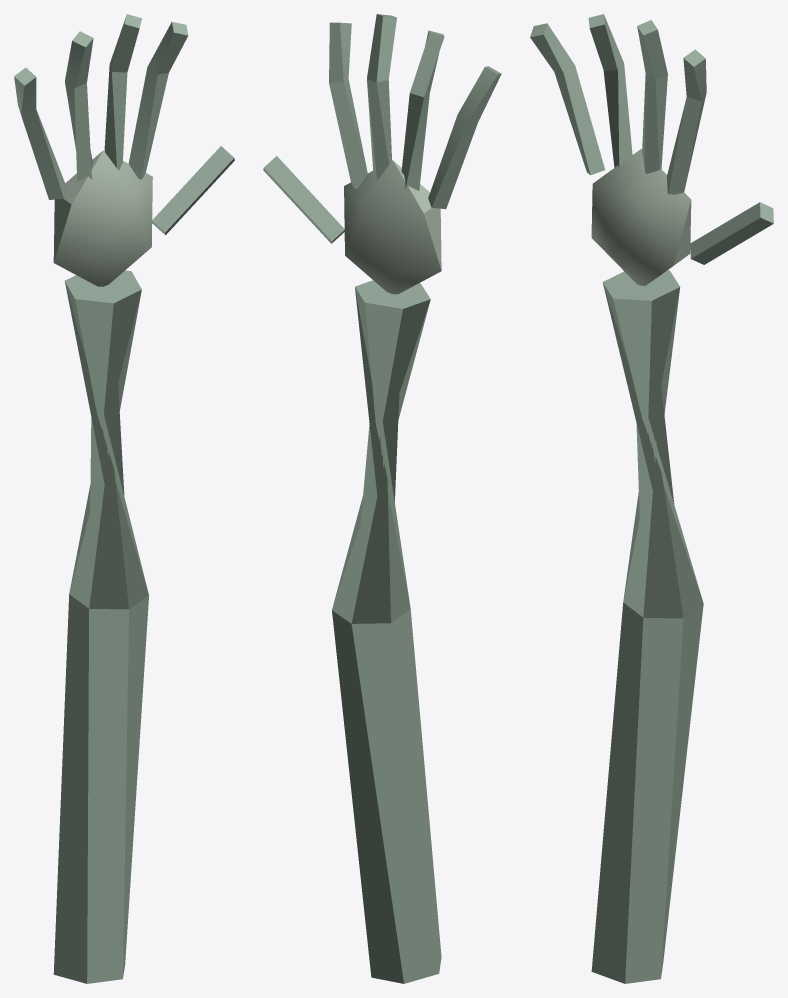
The model's file is drowned_hand.glb.
3 renders of one model, left to right at view 1: azimuth 30°, elevation 25°; view 2: azimuth 150°, elevation 25°; view 3: azimuth 330°, elevation 25°, orthographic. The views are drawn at different scales.
Parts seen in each view (by area): view 1: drowned_hand; view 2: drowned_hand; view 3: drowned_hand.
Boxes of the visible parts, x1,y1,x2,y2 form: drowned_hand: (14,14,234,983); drowned_hand: (263,14,501,983); drowned_hand: (530,14,773,983).
Bounding box in the file's own units: 0.3316 × 1.32 × 0.1182.
